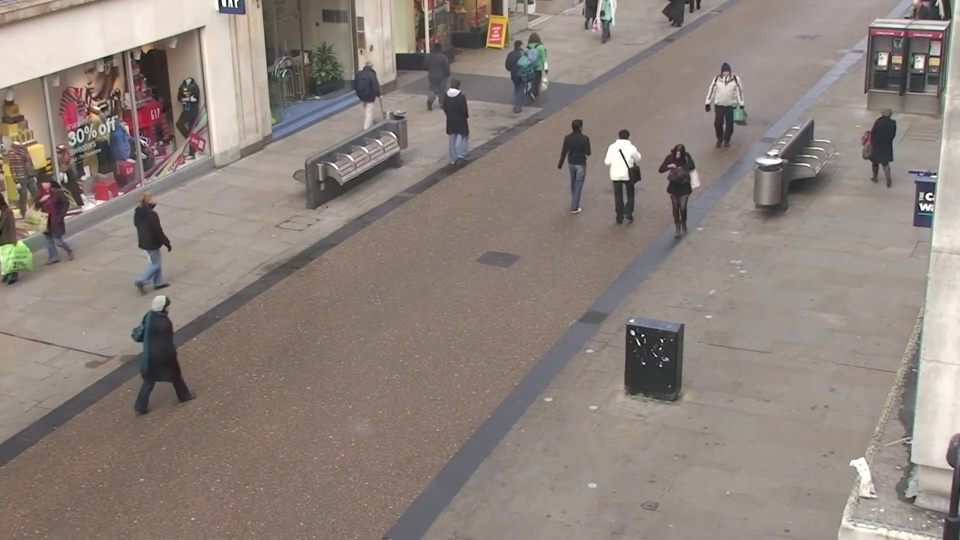pedestrian: (154, 280, 210, 417), (22, 173, 75, 282), (142, 180, 188, 290), (859, 100, 899, 194), (659, 145, 694, 249), (611, 121, 642, 219), (565, 113, 596, 208), (708, 67, 738, 149), (449, 74, 478, 158), (357, 56, 386, 134), (426, 36, 453, 109), (508, 37, 534, 111), (528, 28, 553, 100)
